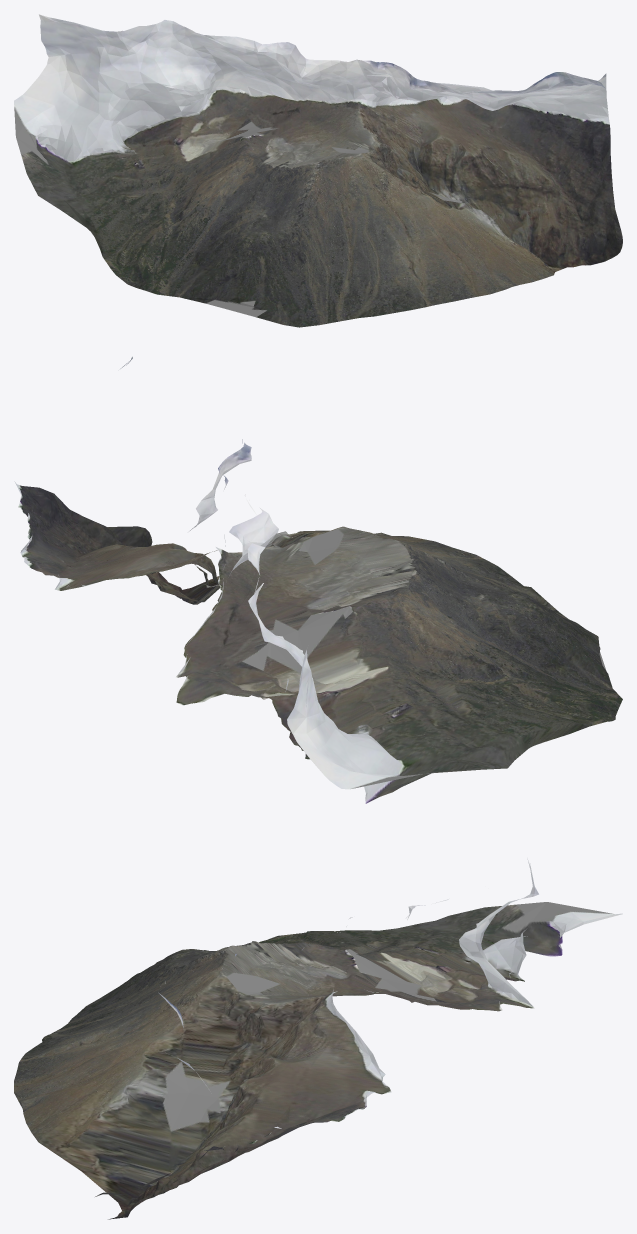
Rendered from cbc03.glb.
3 views of the same model, one above another, from view 1: azimuth 30°, elevation 25°; view 2: azimuth 150°, elevation 25°; view 3: azimuth 270°, elevation 25° (orthographic). The views are drawn at different scales.
Visible parts, largest first — view 1: DefaultName; view 2: DefaultName; view 3: DefaultName.
Boxes of the visible parts, left/top/right/bottom form: DefaultName: left=14, top=14, right=622, bottom=327; DefaultName: left=14, top=356, right=622, bottom=803; DefaultName: left=14, top=858, right=622, bottom=1219.
Size of the model in its own units: 0.2288 by 0.0803 by 0.22.
Materials: 1 (1 with a texture image).
